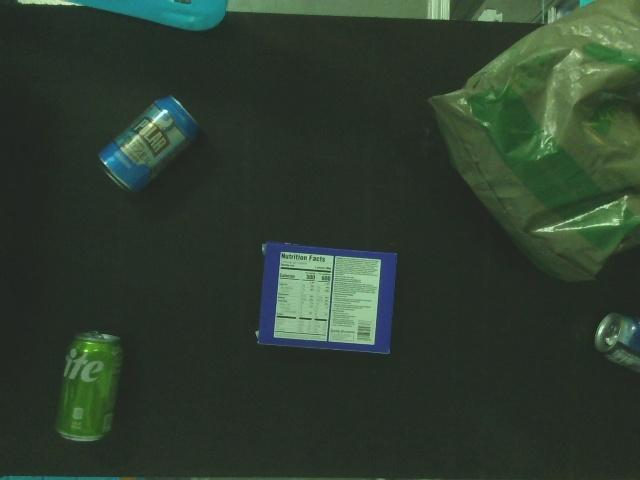cardboard: (254, 235, 404, 362)
metal: (96, 90, 206, 196), (52, 326, 126, 446), (592, 310, 639, 380)
plastic: (424, 0, 640, 285)
